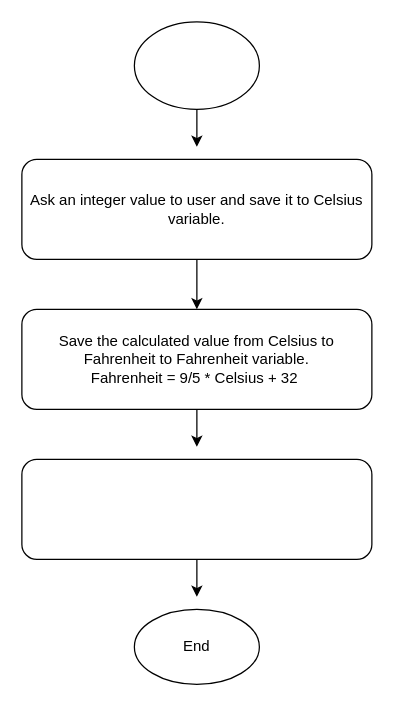
Some shapes in this 394 by 706 pixel diagram are drawn without their labels. The box of each missing label's shape, as (x1, y1, x2, y2) in pixels:
Print the Fahrenheit temperature: (21, 458, 372, 559)
Start: (133, 21, 259, 109)
